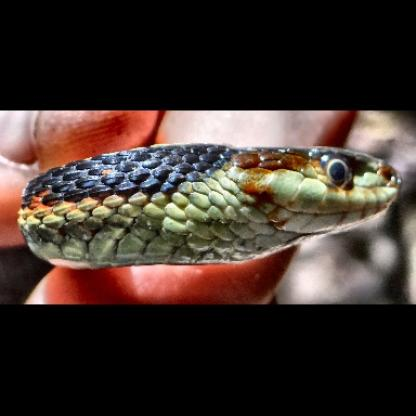Snake: (12, 138, 407, 276)
